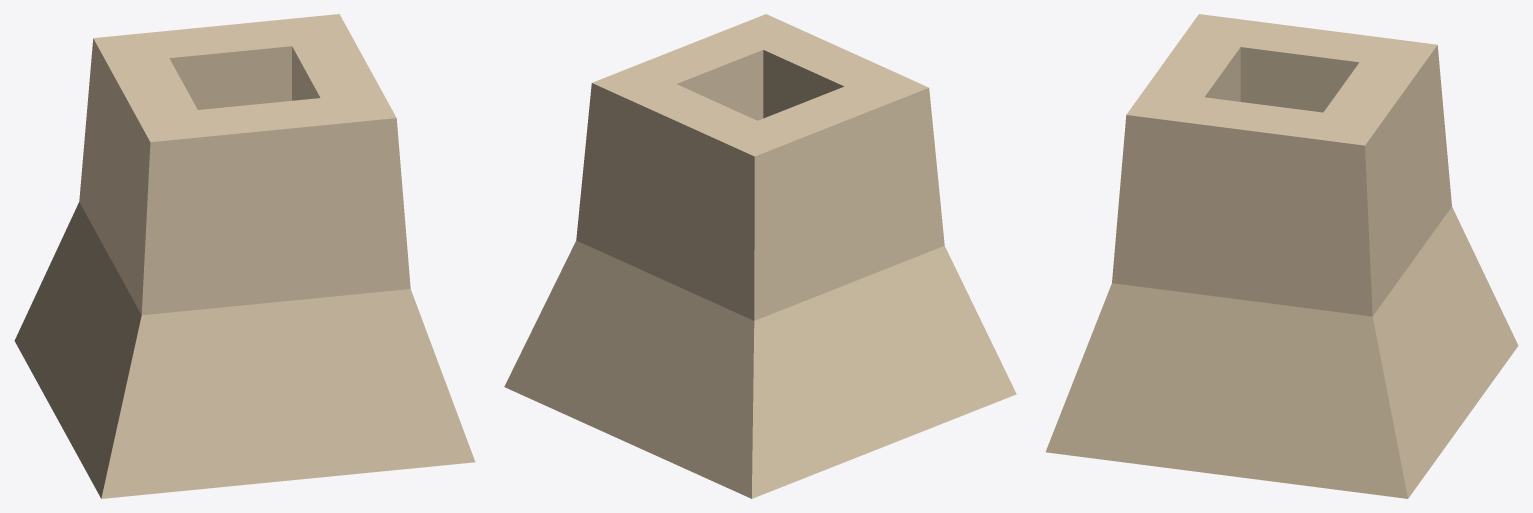
File: LightSandStoneDecorationSmallTorchBase1.fbx
The picture shows the model from 3 angles, left to right: view 1: azimuth 30°, elevation 25°; view 2: azimuth 150°, elevation 25°; view 3: azimuth 270°, elevation 25°; orthographic projection. The views are drawn at different scales.
Parts seen in each view (by area): view 1: LightSandStoneDecorationSmallTorchBase1; view 2: LightSandStoneDecorationSmallTorchBase1; view 3: LightSandStoneDecorationSmallTorchBase1.
Part boxes in pixels (box(x1,y1,x2,y2)): LightSandStoneDecorationSmallTorchBase1: box(14, 14, 475, 498); LightSandStoneDecorationSmallTorchBase1: box(504, 14, 1016, 498); LightSandStoneDecorationSmallTorchBase1: box(1045, 14, 1518, 498).
Size of the model in its own units: 116 by 86.51 by 116.
